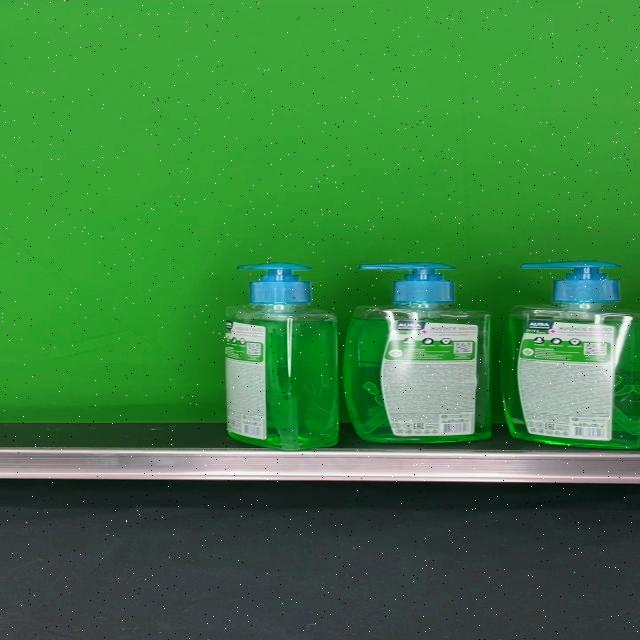Bottle: (345, 262, 492, 443), (500, 260, 640, 450), (225, 262, 340, 450)
Cap: (358, 262, 456, 304), (520, 261, 620, 302), (237, 262, 312, 304)
